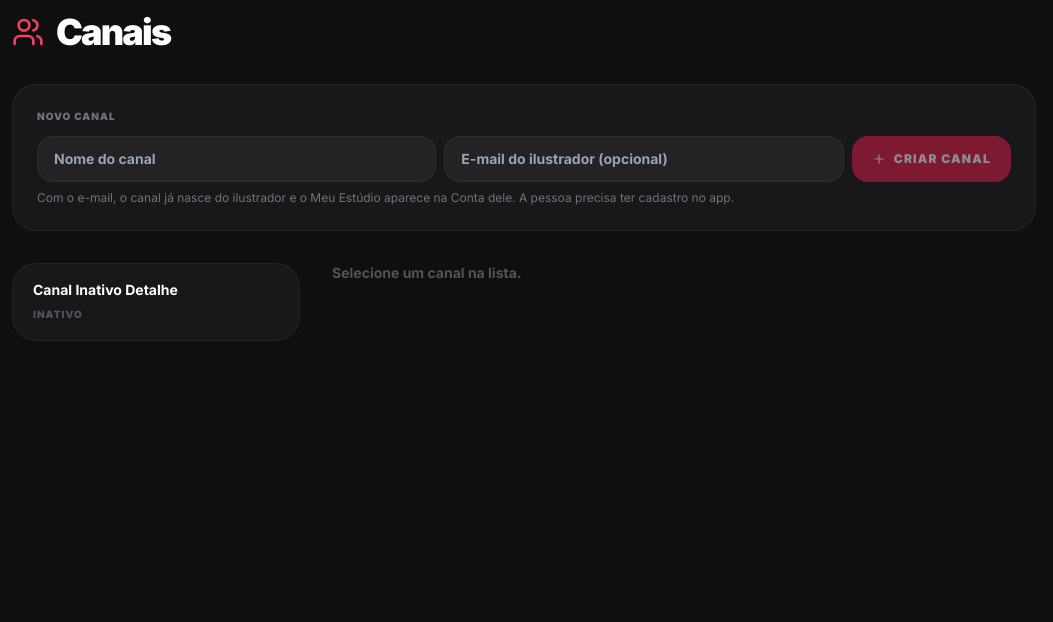
Test: CanaisPanel — Reativar canal (Fase 5 Bloco 2, Task 8) › canal inativo mostra o botão "Reativar canal" (não "Desativar")
The image size is (1053, 622).
Click the text "Canal Inativo Detalhe" at (105, 290), box 33,281 -> 178,298
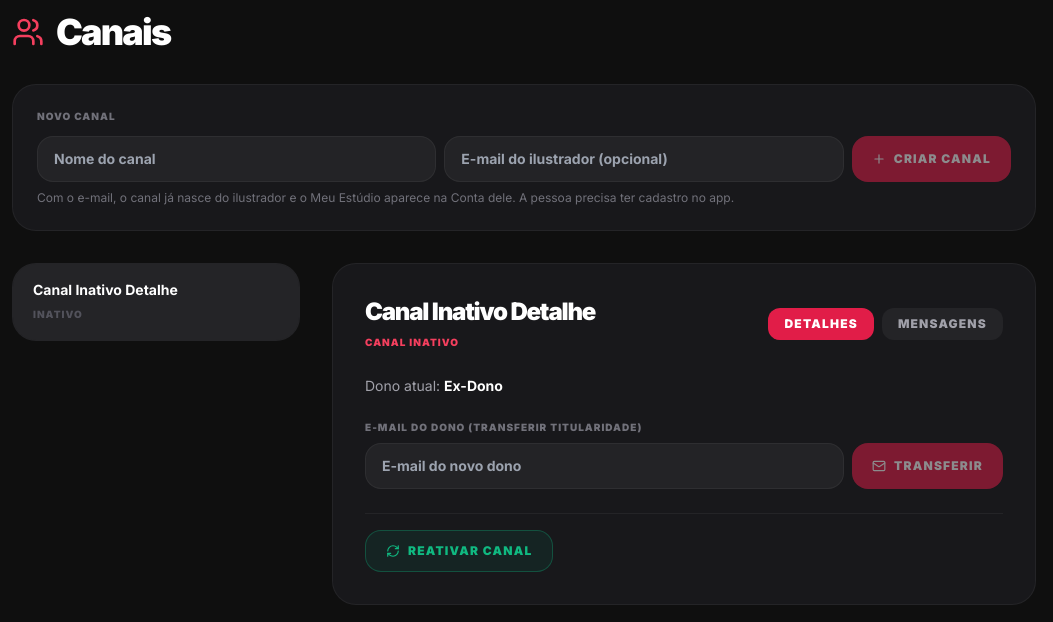
Check: the button "Reativar canal" is shown, box 365,530 -> 553,572
